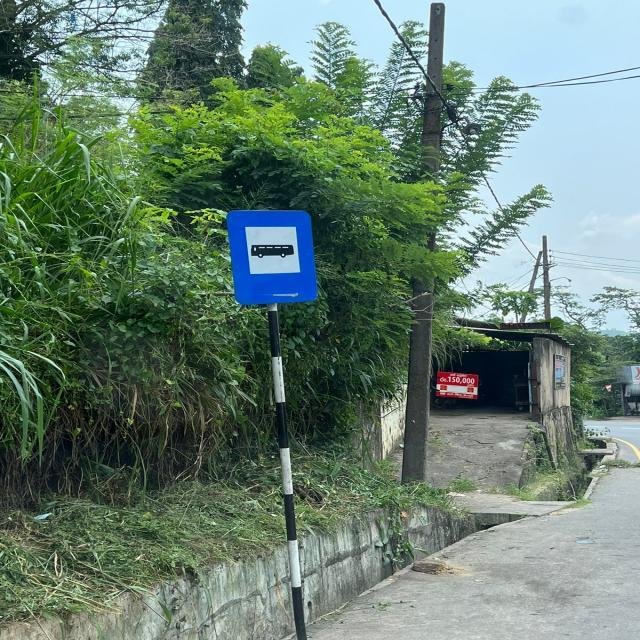bus_stop: (222, 202, 324, 308)
